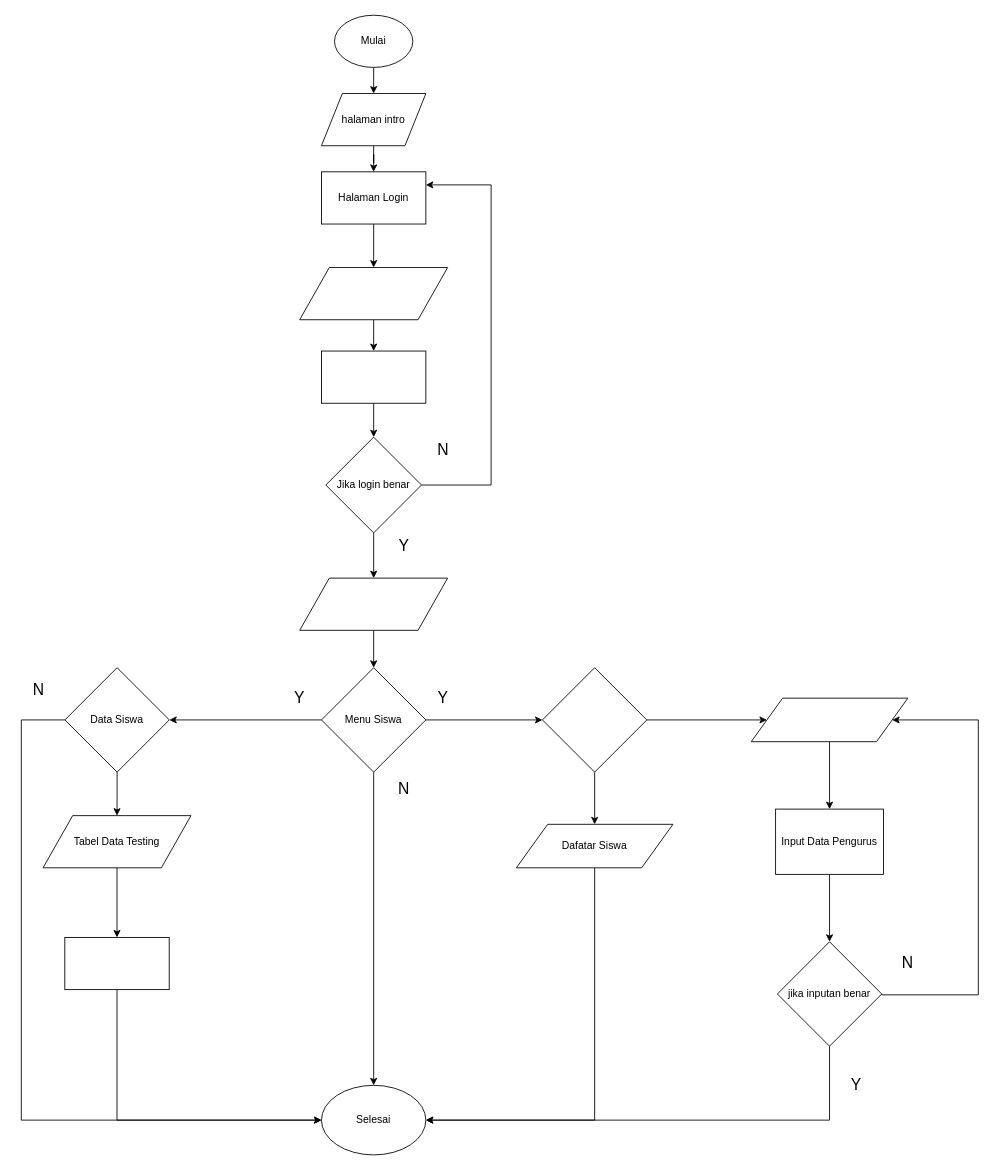
Image size: 1001x1170. Some labels were removed from this diagram. The box of each missing label's shape, as (x1, y1, x2, y2) in pixels:
Aksi: (64, 937, 169, 990)
Halaman Utama: (299, 577, 448, 630)
Input "username" dan "password": (299, 267, 448, 320)
Tambah Akun: (542, 667, 647, 772)
Tambah Pengurus: (750, 697, 908, 742)
Validasi Login: (321, 350, 426, 403)
